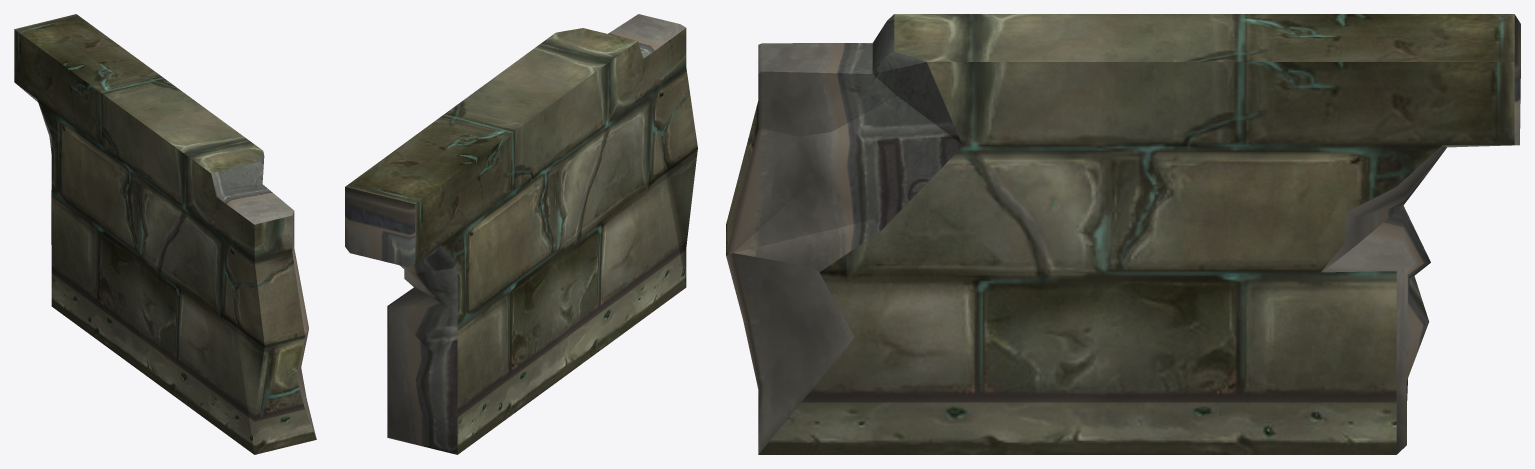
Rendered from F_waiqiang0016.fbx.
The picture shows the model from 3 angles, left to right: view 1: azimuth 30°, elevation 25°; view 2: azimuth 150°, elevation 25°; view 3: azimuth 270°, elevation 25°; orthographic projection. The views are drawn at different scales.
Visible parts, largest first — view 1: F_waiqiang0016; view 2: F_waiqiang0016; view 3: F_waiqiang0016.
Part boxes in pixels (bbox=[...]): F_waiqiang0016: bbox=[14, 14, 316, 454]; F_waiqiang0016: bbox=[345, 14, 697, 454]; F_waiqiang0016: bbox=[726, 14, 1520, 454].
Bounding box in the file's own units: 30.89 × 118 × 217.
